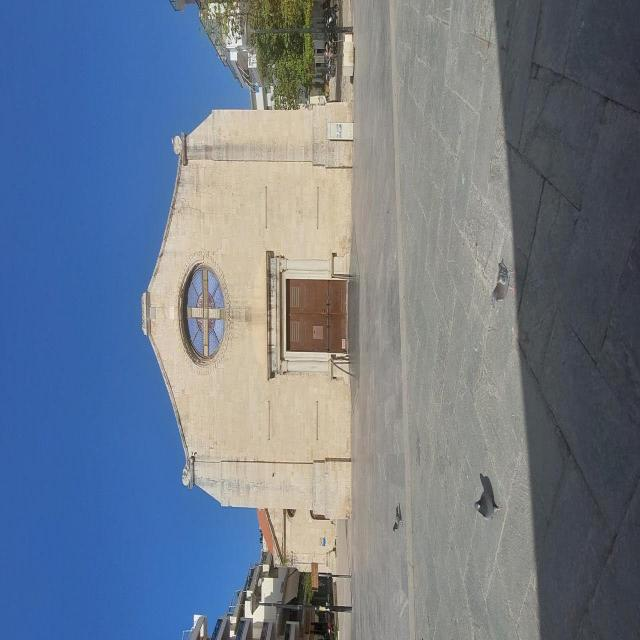Agia Aikaterini: (59, 311, 249, 640)
